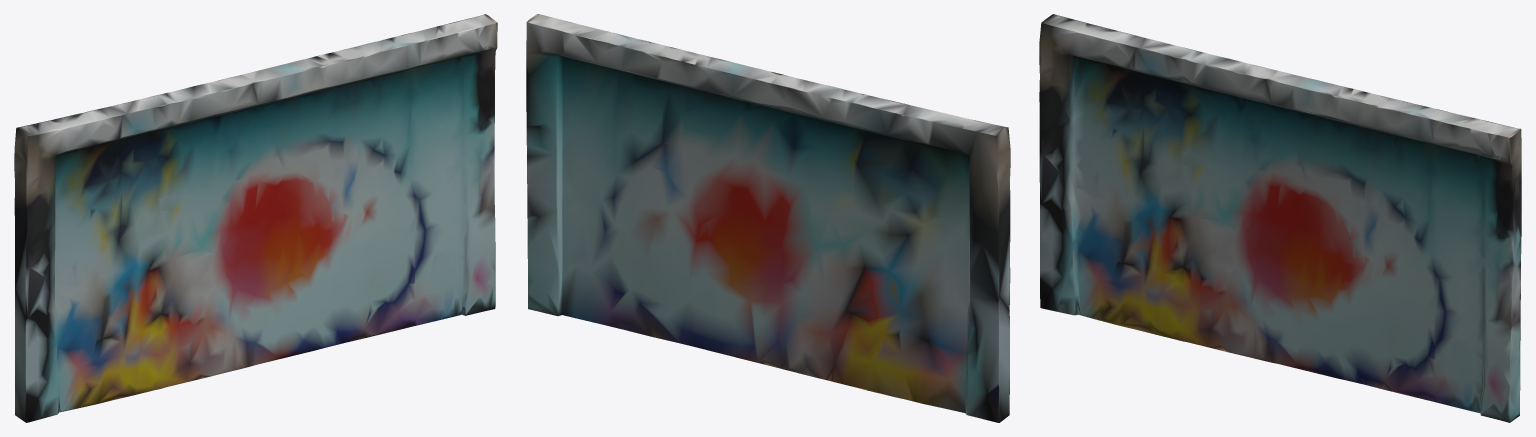
3 renders of one model, left to right at view 1: azimuth 30°, elevation 25°; view 2: azimuth 150°, elevation 25°; view 3: azimuth 330°, elevation 25°, orthographic.
Parts seen in each view (by area): view 1: mural01; view 2: mural01; view 3: mural01.
Boxes of the visible parts, bbox=[...] form: mural01: bbox=[14, 14, 497, 422]; mural01: bbox=[526, 14, 1010, 422]; mural01: bbox=[1039, 14, 1521, 422].
Size of the model in its own units: 1.54 by 0.8999 by 0.0701.
